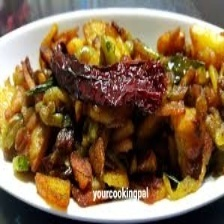sabzi: (0, 19, 224, 212)
